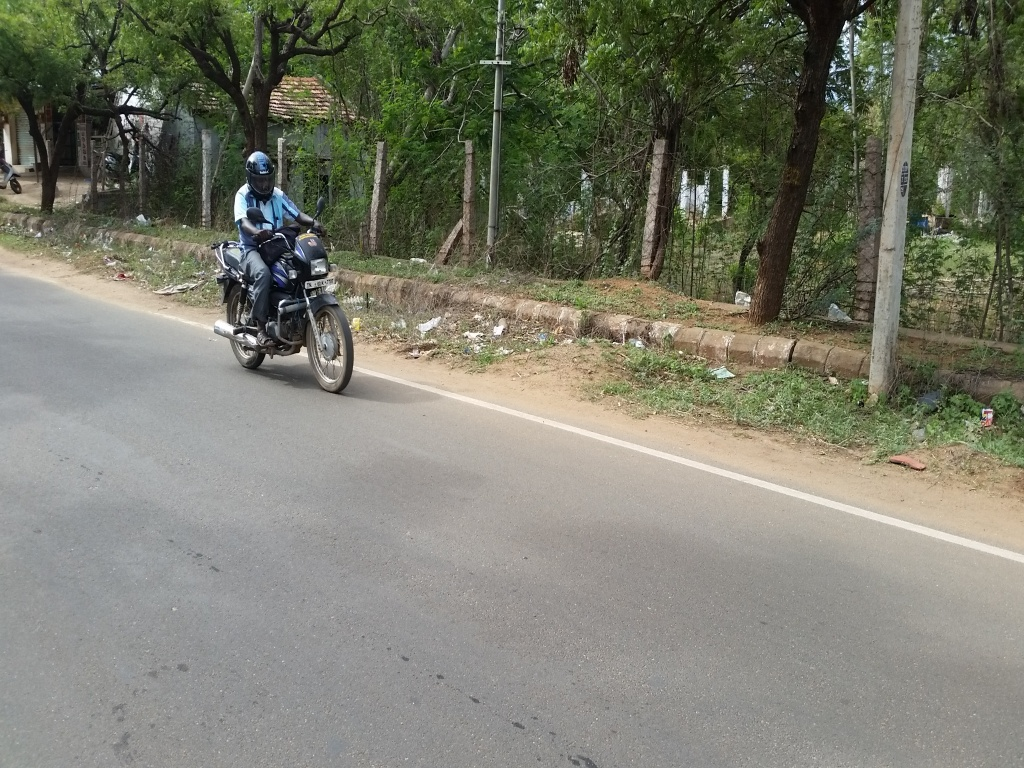biker: (197, 125, 377, 406)
helmet: (241, 140, 287, 204)
